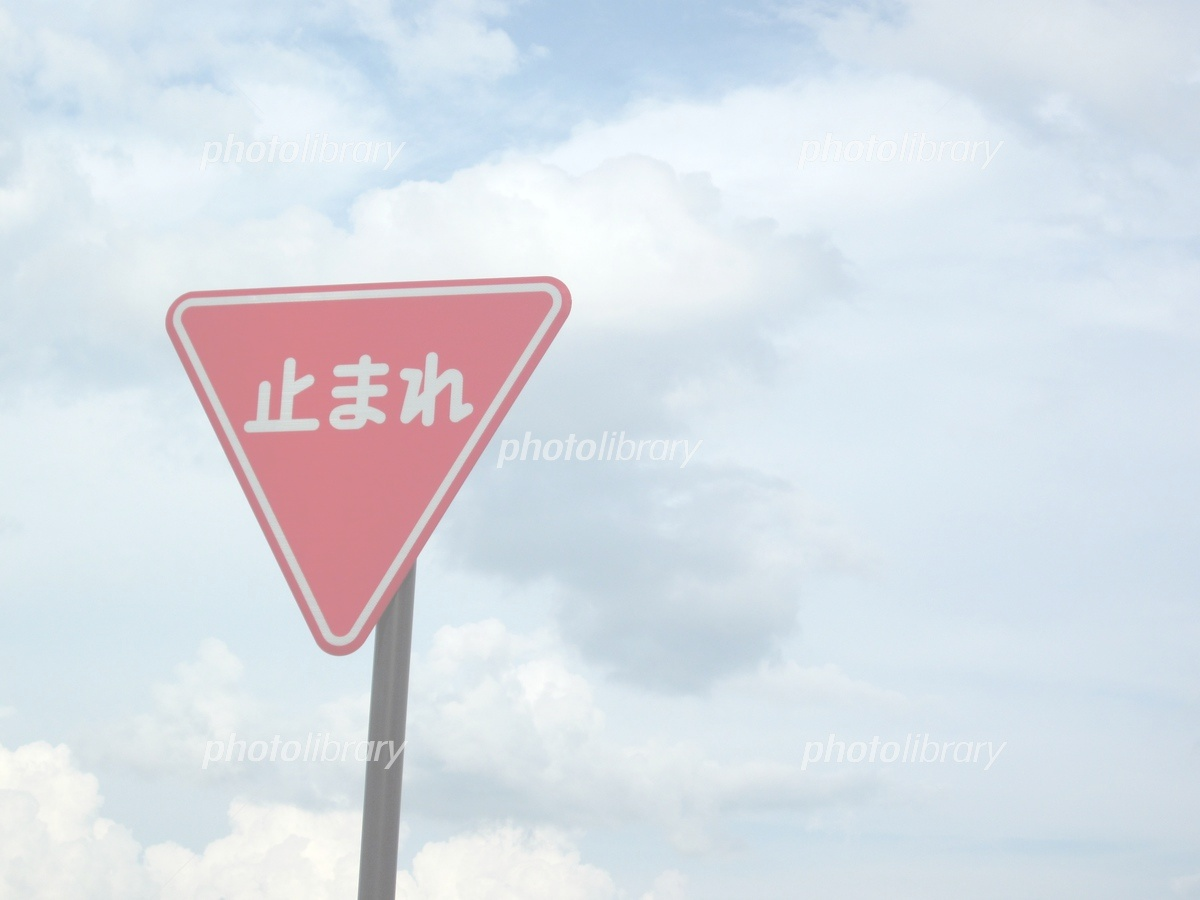Regulatory_sign_triangle: (161, 254, 578, 663)
